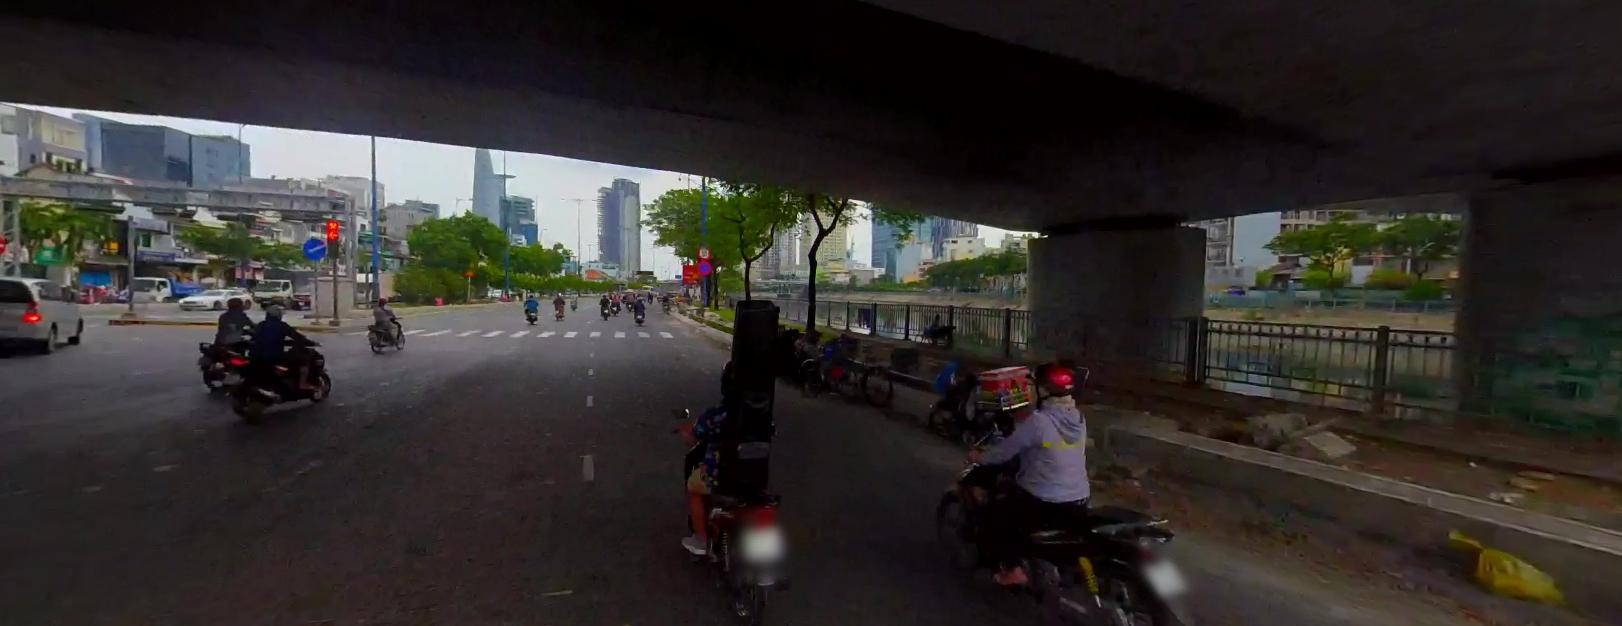Cam dung va do: (697, 260, 710, 273)
Gioi han toc do: (698, 245, 711, 257)
Hieu lenh: (303, 237, 325, 258)
